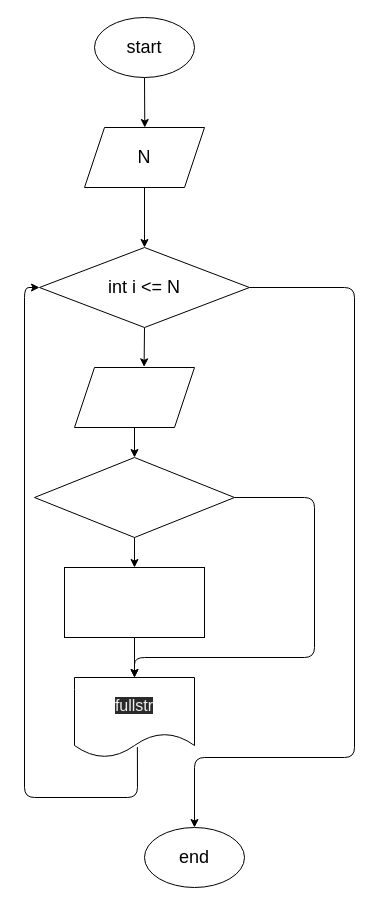
This 380x905 diagram has some shape labels left out. Here are the shapes that lost their labels. From the top down, the centre of each, then its label:
the point at 134,397: string fullstr
the point at 134,497: if fullstr.length > 3
the point at 134,602: fullstr.length -= ( fullstr.length - 3)
